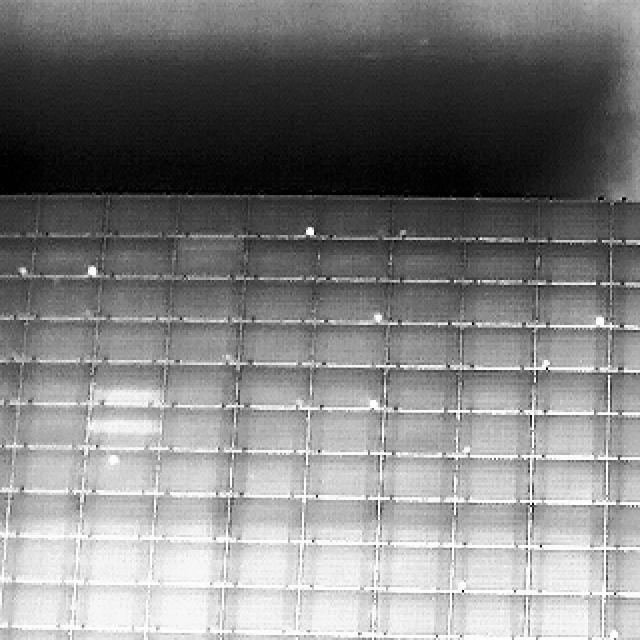Hotspots: (591, 308, 609, 328), (298, 221, 318, 237), (538, 353, 554, 373), (606, 622, 622, 640), (371, 307, 386, 325), (455, 577, 471, 593), (83, 263, 100, 277), (366, 394, 381, 408), (14, 264, 30, 277), (106, 455, 120, 469)
PV-modules: (446, 592, 526, 640), (526, 548, 604, 597), (219, 588, 298, 636), (371, 591, 448, 640), (298, 590, 378, 637), (2, 490, 80, 538), (377, 498, 454, 546), (302, 497, 378, 545), (374, 544, 450, 592), (454, 499, 528, 548), (2, 537, 79, 584), (528, 502, 605, 549), (160, 407, 235, 455), (453, 547, 528, 595), (146, 584, 224, 630), (222, 542, 300, 588), (298, 544, 376, 590), (379, 457, 455, 504), (228, 495, 304, 542), (312, 196, 393, 240), (534, 367, 608, 415), (231, 454, 306, 501), (8, 448, 83, 495), (524, 595, 602, 640), (310, 324, 388, 369), (150, 539, 223, 587), (305, 456, 381, 502), (455, 459, 531, 505), (382, 365, 458, 411), (465, 198, 541, 244), (315, 280, 391, 326), (77, 539, 151, 586), (234, 408, 308, 455), (101, 193, 178, 238), (156, 454, 231, 500), (24, 319, 99, 365), (73, 582, 148, 628), (167, 278, 242, 324), (379, 412, 457, 456), (1, 580, 74, 627), (460, 367, 536, 412), (242, 278, 316, 324), (457, 328, 534, 372), (537, 327, 609, 374), (533, 459, 608, 504), (15, 405, 90, 450), (152, 494, 227, 539), (170, 320, 243, 366), (18, 361, 94, 405), (90, 406, 161, 453), (458, 412, 532, 457), (26, 275, 100, 320), (390, 197, 467, 240), (309, 409, 382, 454), (81, 493, 154, 538), (394, 240, 467, 285), (459, 282, 535, 325), (87, 451, 158, 497), (96, 277, 170, 321), (164, 362, 238, 406), (535, 244, 609, 288), (92, 361, 164, 406), (539, 200, 611, 245), (315, 241, 390, 284), (387, 326, 460, 370), (533, 414, 606, 458), (240, 324, 316, 366), (170, 238, 244, 281), (172, 195, 246, 238), (98, 320, 170, 364), (234, 362, 309, 404), (464, 242, 535, 286), (98, 240, 176, 280), (243, 239, 317, 281), (393, 282, 467, 324), (314, 364, 386, 406), (249, 195, 317, 239), (538, 283, 609, 325), (40, 194, 107, 238), (30, 239, 101, 279), (602, 548, 640, 598), (600, 502, 640, 548), (602, 460, 640, 508), (604, 367, 640, 415), (600, 597, 640, 640), (0, 194, 38, 238), (606, 325, 640, 373), (606, 412, 640, 458), (606, 283, 640, 325), (608, 245, 640, 287), (0, 274, 29, 320), (0, 240, 32, 280), (610, 203, 640, 245), (68, 625, 144, 640), (0, 320, 24, 365), (2, 625, 70, 640), (140, 627, 218, 640), (0, 400, 17, 450), (216, 630, 296, 640), (0, 358, 18, 400), (292, 632, 368, 640), (368, 632, 444, 640), (444, 635, 524, 640), (520, 637, 598, 640)
